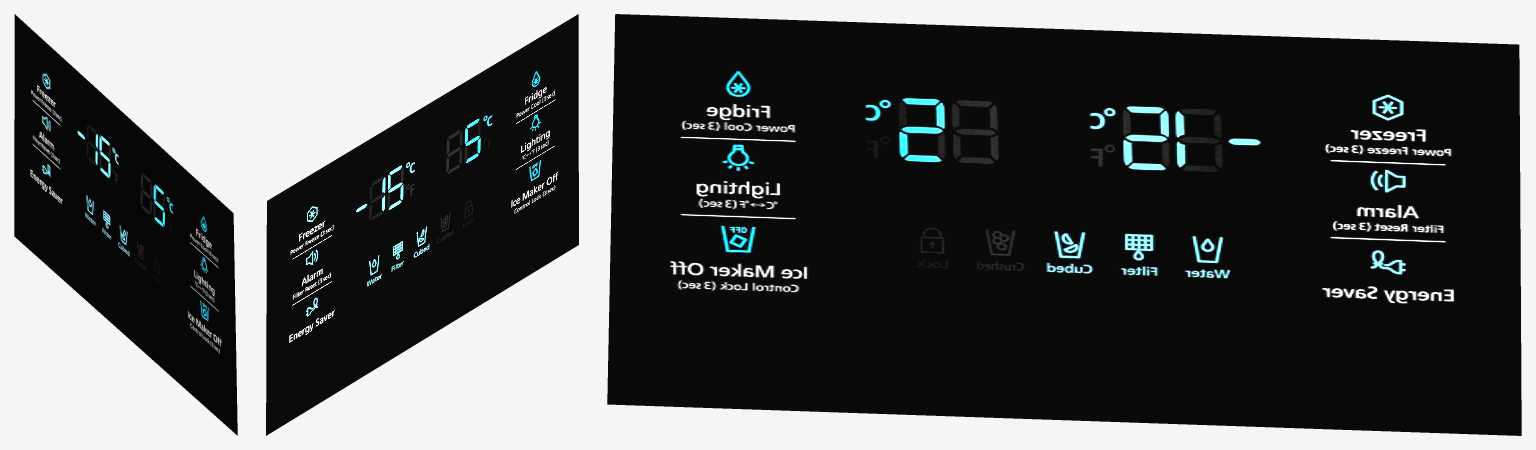
The model's file is baking_24.glb.
The picture shows the model from 3 angles, left to right: view 1: azimuth 30°, elevation 25°; view 2: azimuth 150°, elevation 25°; view 3: azimuth 270°, elevation 25°; orthographic projection. The views are drawn at different scales.
Parts seen in each view (by area): view 1: StaticMeshActor_49_003; view 2: StaticMeshActor_49_003; view 3: StaticMeshActor_49_003.
Part boxes in pixels (box(x1,y1,x2,y2)): StaticMeshActor_49_003: box(14, 14, 237, 435); StaticMeshActor_49_003: box(266, 14, 578, 435); StaticMeshActor_49_003: box(607, 14, 1521, 435).
Size of the model in its own units: 0.0209 by 0.1147 by 0.2429.
Materials: 1 (1 with a texture image).
